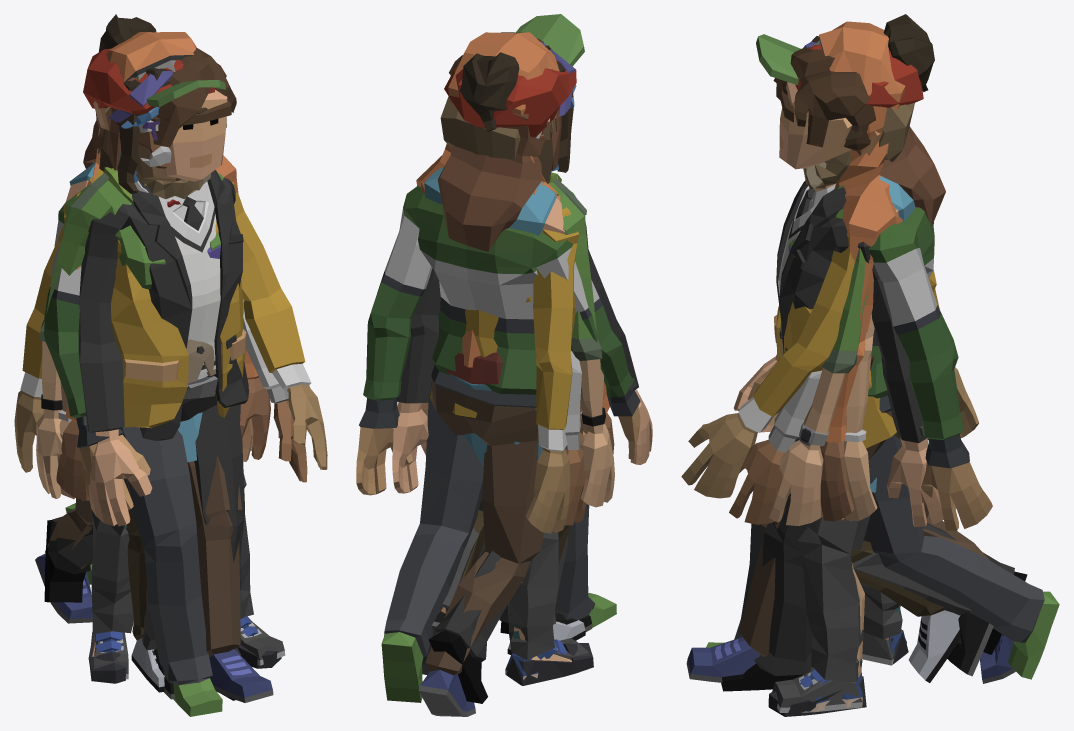
The model's file is human-characters-poses-1.glb.
3 views of the same model, side by side, from view 1: azimuth 30°, elevation 25°; view 2: azimuth 150°, elevation 25°; view 3: azimuth 270°, elevation 25° (orthographic). The views are drawn at different scales.
Visible parts, largest first — view 1: Character_1, Character_5, Character_6, Character_4, Character_7, Character_2, Character_3, Character_8; view 2: Character_6, Character_5, Character_3, Character_1, Character_4, Character_2, Character_7, Character_8; view 3: Character_1, Character_5, Character_4, Character_6, Character_7, Character_2, Character_3, Character_8.
Part boxes in pixels (left/top/right/bottom): Character_1: left=44, top=48, right=249, bottom=700; Character_5: left=14, top=120, right=327, bottom=716; Character_6: left=35, top=172, right=273, bottom=702; Character_4: left=56, top=32, right=285, bottom=679; Character_7: left=36, top=70, right=280, bottom=692; Character_2: left=83, top=48, right=307, bottom=699; Character_3: left=57, top=71, right=281, bottom=683; Character_8: left=94, top=14, right=258, bottom=653; Character_6: left=356, top=96, right=640, bottom=716; Character_5: left=381, top=121, right=616, bottom=702; Character_3: left=397, top=69, right=608, bottom=685; Character_1: left=392, top=32, right=652, bottom=703; Character_4: left=416, top=14, right=614, bottom=685; Character_2: left=422, top=60, right=592, bottom=674; Character_7: left=460, top=41, right=614, bottom=654; Character_8: left=421, top=45, right=586, bottom=679; Character_1: left=721, top=47, right=1027, bottom=691; Character_5: left=681, top=189, right=1059, bottom=679; Character_4: left=756, top=21, right=906, bottom=712; Character_6: left=686, top=103, right=1015, bottom=683; Character_7: left=769, top=41, right=960, bottom=682; Character_2: left=729, top=45, right=993, bottom=676; Character_3: left=768, top=126, right=945, bottom=716; Character_8: left=799, top=14, right=934, bottom=711.
Bounding box in the file's own units: 0.6965 × 1.89 × 0.9805.
Materials: 1 (1 with a texture image).
